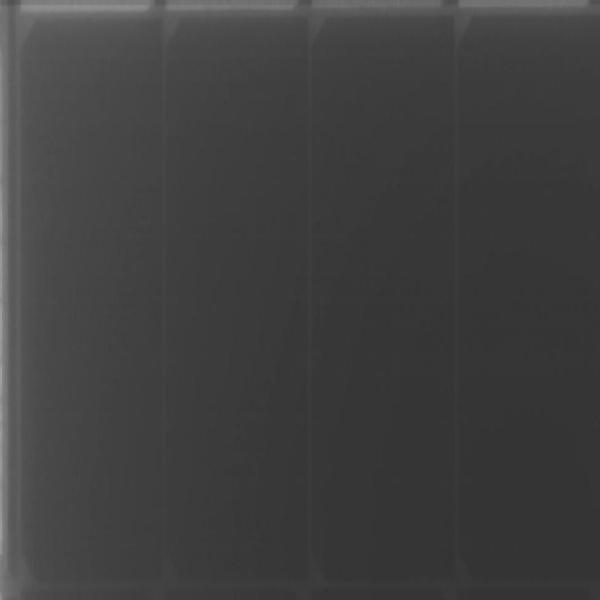no_electricity: (5, 13, 600, 600)
